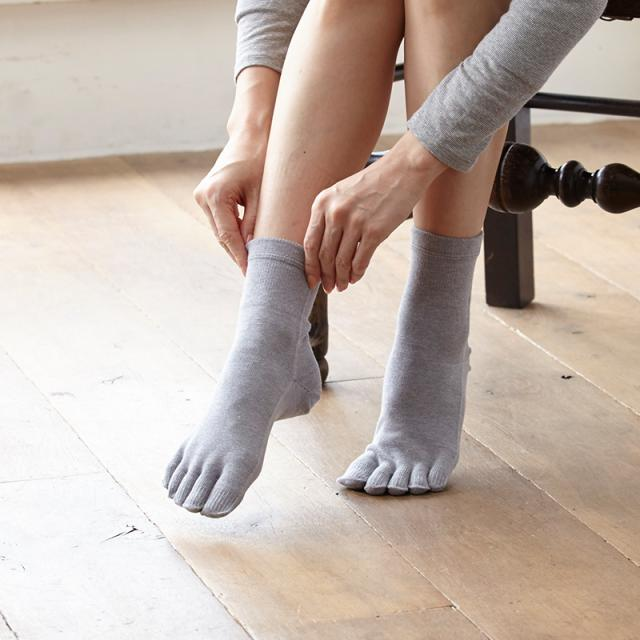sock: (162, 236, 323, 518), (337, 224, 483, 495)
